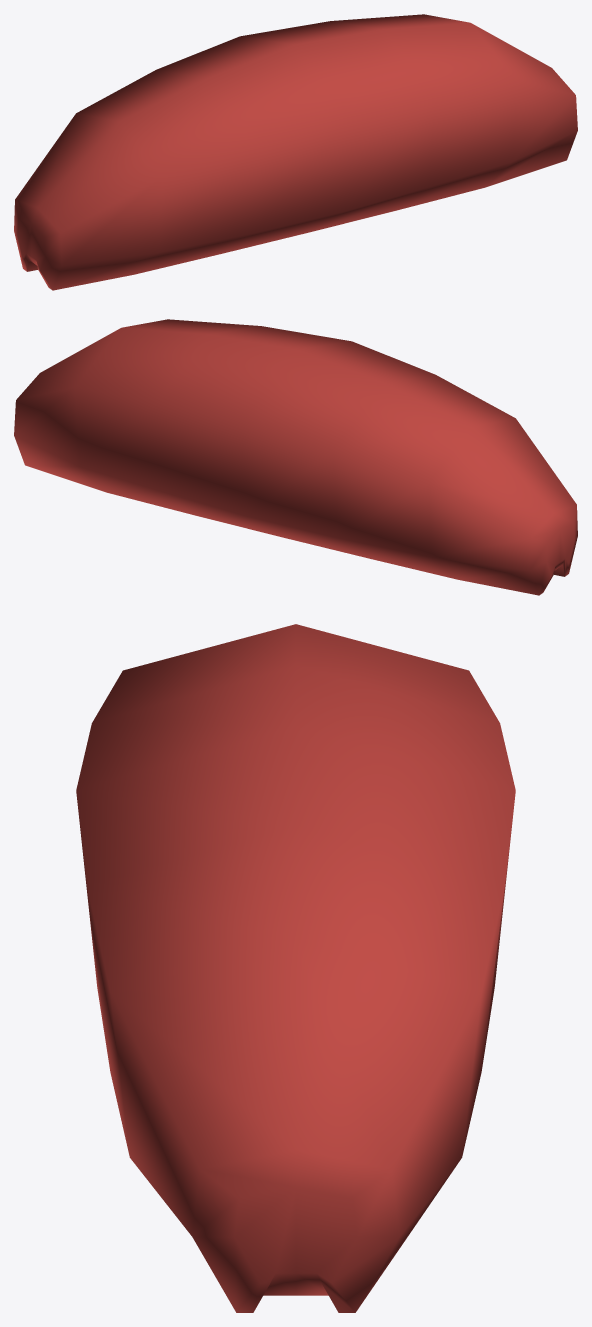
The model's file is touring_lod2.glb.
3 views of the same model, one above another, from view 1: azimuth 30°, elevation 25°; view 2: azimuth 150°, elevation 25°; view 3: azimuth 270°, elevation 25° (orthographic). The views are drawn at different scales.
Visible parts, largest first — view 1: touring_lod2; view 2: touring_lod2; view 3: touring_lod2.
Part boxes in pixels (<box>): touring_lod2: <box>14,14,577,290</box>; touring_lod2: <box>14,319,577,595</box>; touring_lod2: <box>76,624,515,1312</box>.
Bounding box in the file's own units: 1 × 0.3201 × 0.3613.
